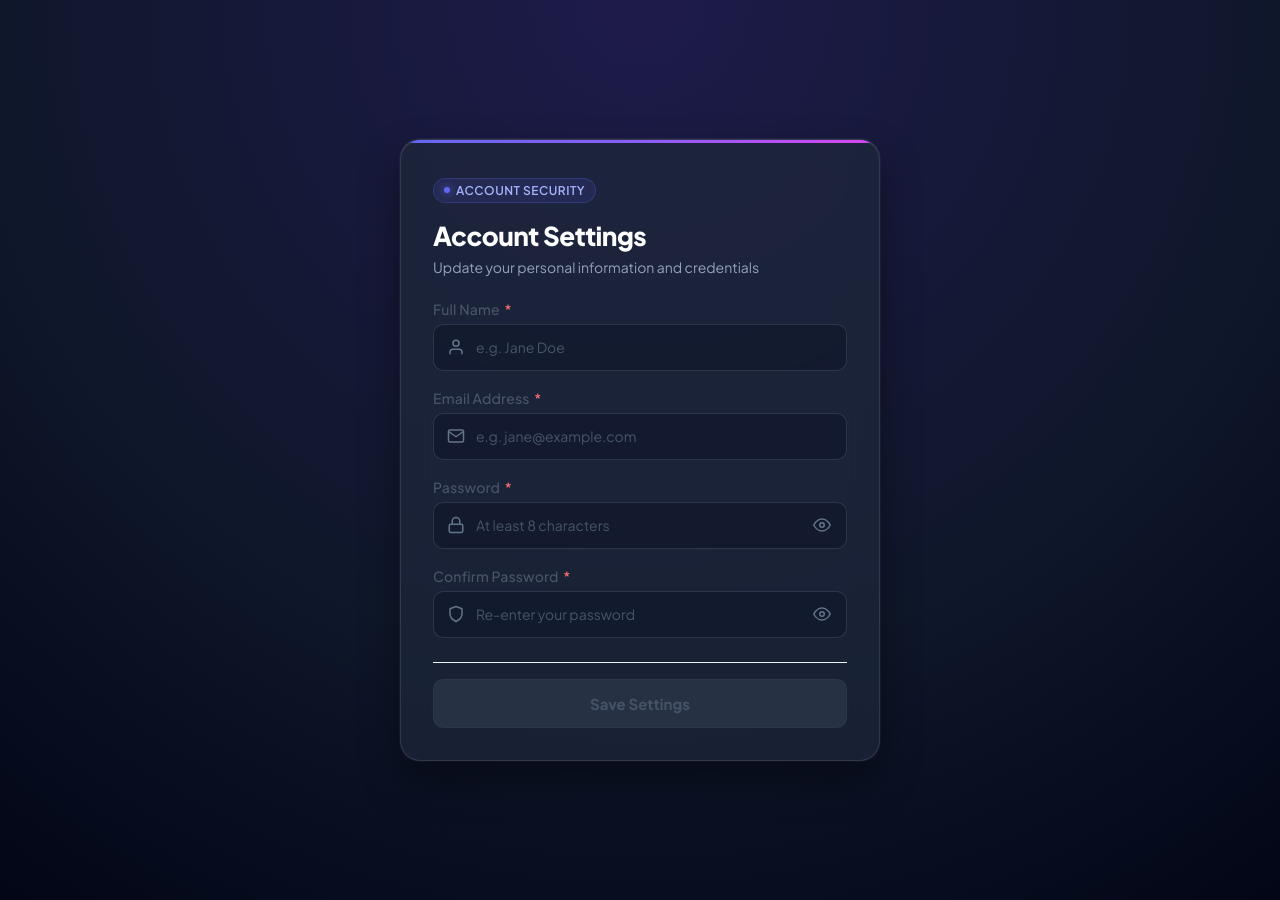
SettingsForm Component › shows error messages and sets aria-invalid when invalid fields are blurred
Type "invalid-email" into the field labelled "Email Address *" at (640, 436), box x1=433 y1=413 x2=847 y2=460
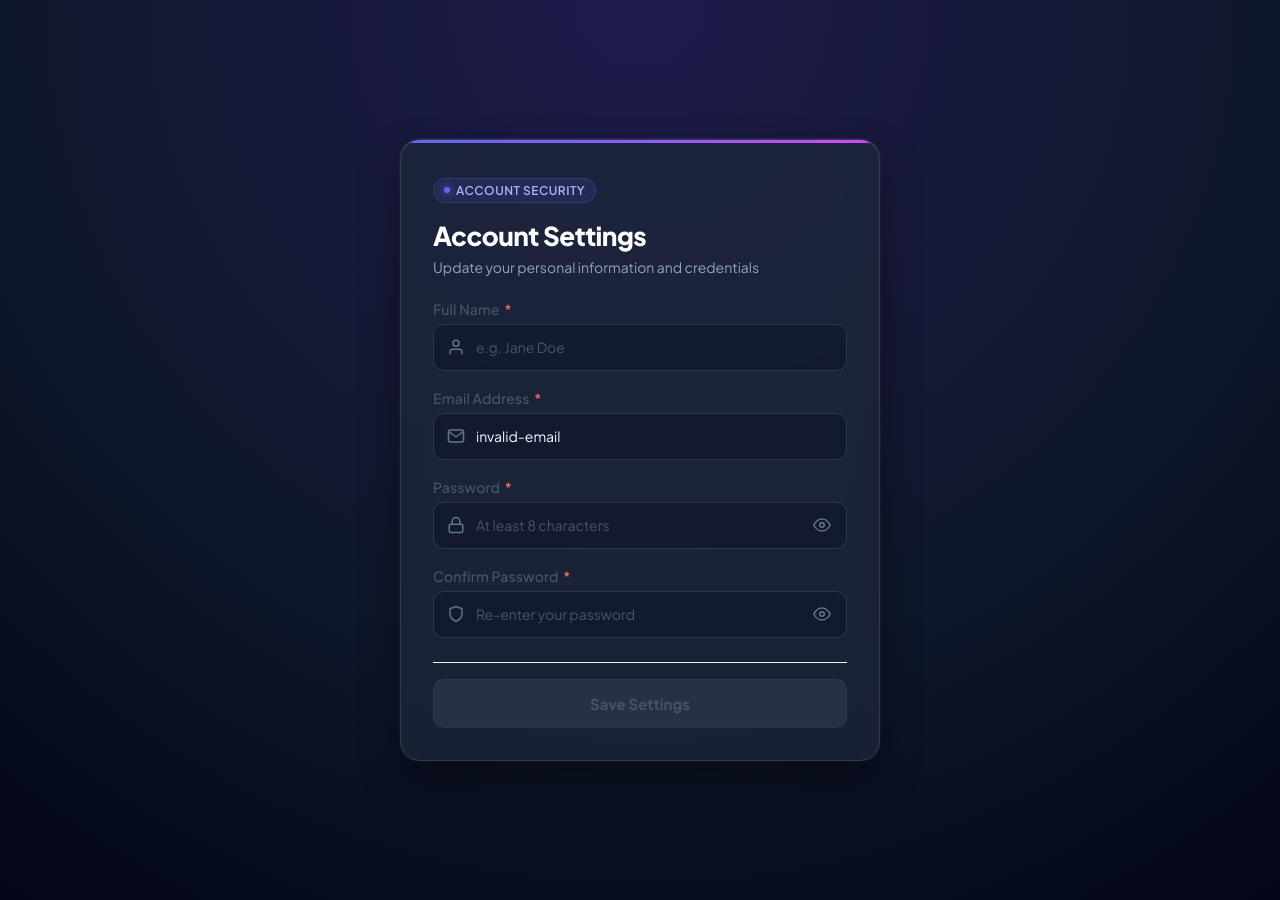
Leave the field labelled "Email Address *", box x1=433 y1=413 x2=847 y2=460
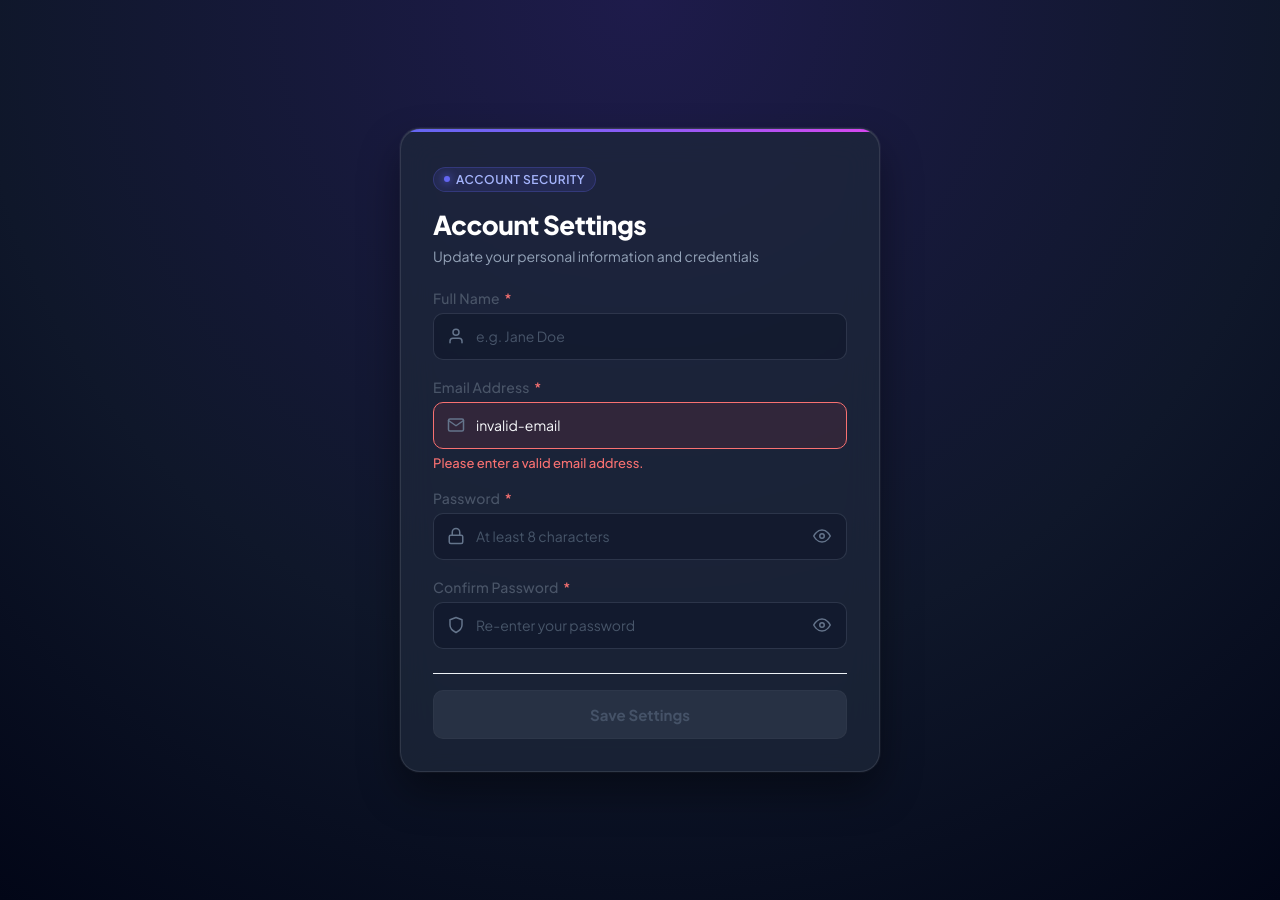
Expected: the text "Please enter a valid email address." is shown, x1=433 y1=455 x2=644 y2=471
